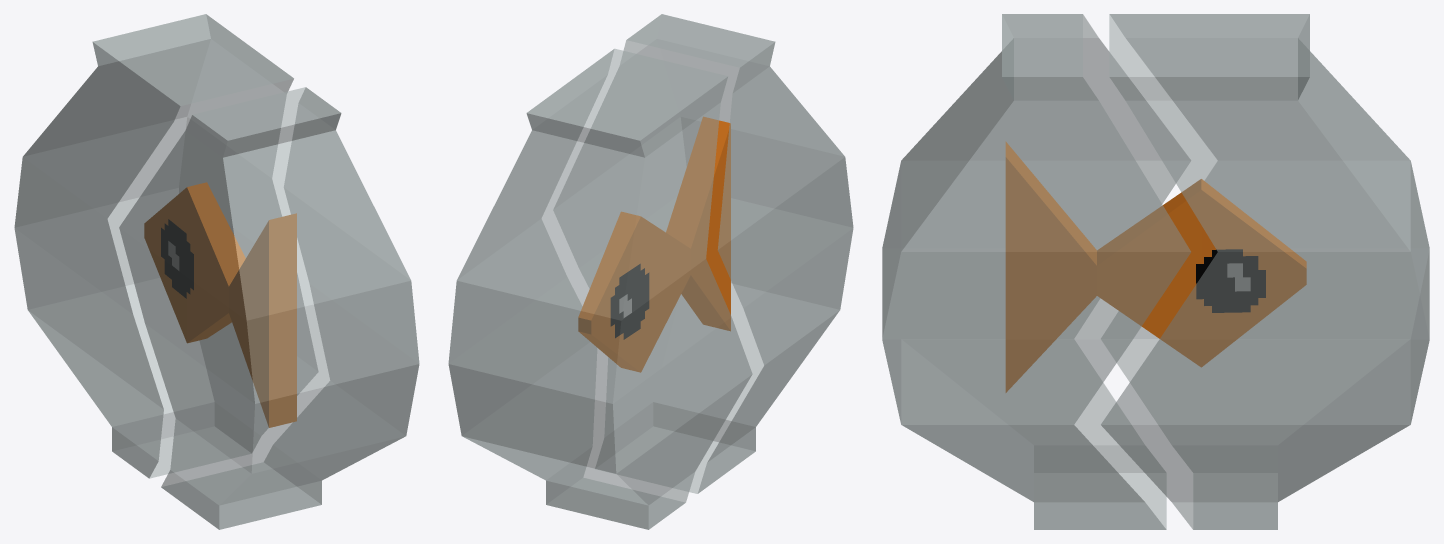
Rendered from fishbowl_empty.glb.
3 renders of one model, left to right at view 1: azimuth 30°, elevation 25°; view 2: azimuth 150°, elevation 25°; view 3: azimuth 270°, elevation 25°, orthographic. The views are drawn at different scales.
Parts seen in each view (by area): view 1: b, b.001, f; view 2: b.001, b, f; view 3: b.001, b, f.
Part boxes in pixels (x1,y1,x2,y2): b: (119, 87, 419, 529); b.001: (14, 14, 317, 478); f: (144, 182, 296, 427); b.001: (448, 49, 752, 529); b: (553, 14, 853, 493); f: (578, 116, 730, 372); b.001: (1101, 14, 1429, 529); b: (882, 14, 1190, 529); f: (1005, 142, 1306, 392).
Size of the model in its own units: 0.6901 by 1.61 by 1.75.
Materials: 2 (2 with a texture image).
